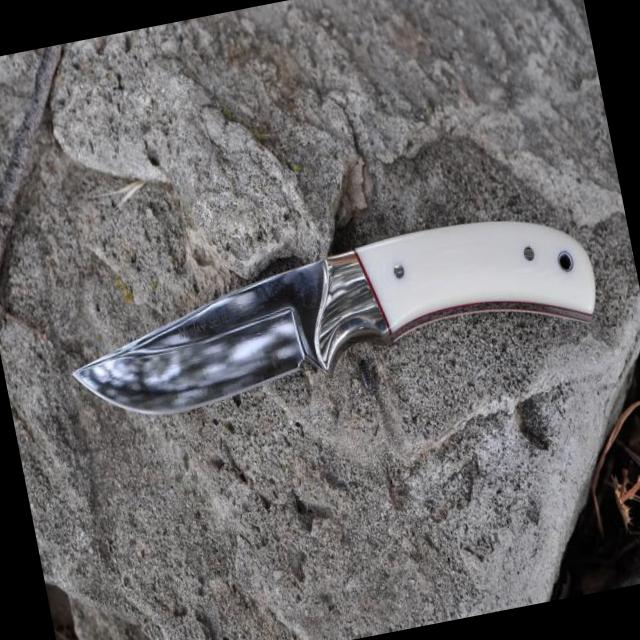Knife: (74, 222, 596, 414)
